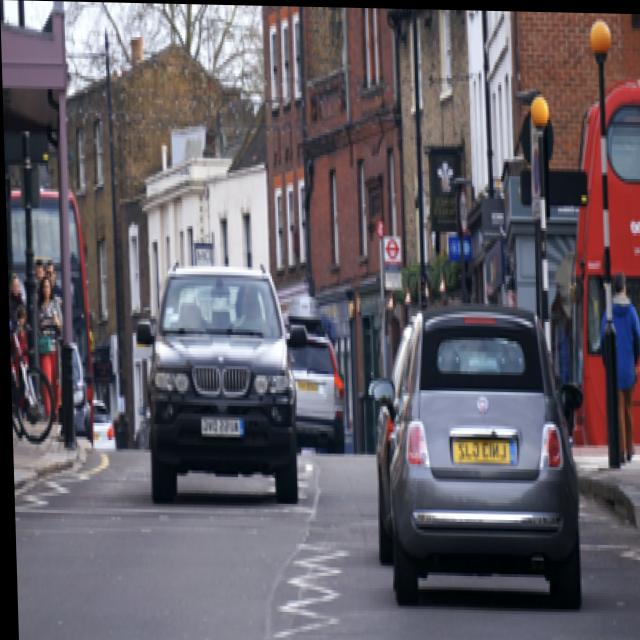licence: (452, 431, 515, 464), (196, 410, 245, 434)
